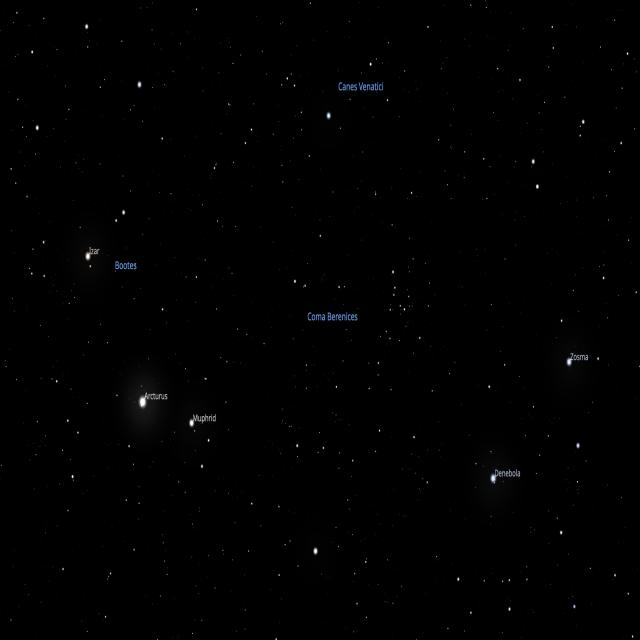Coma Berenices: (293, 268, 399, 450)
